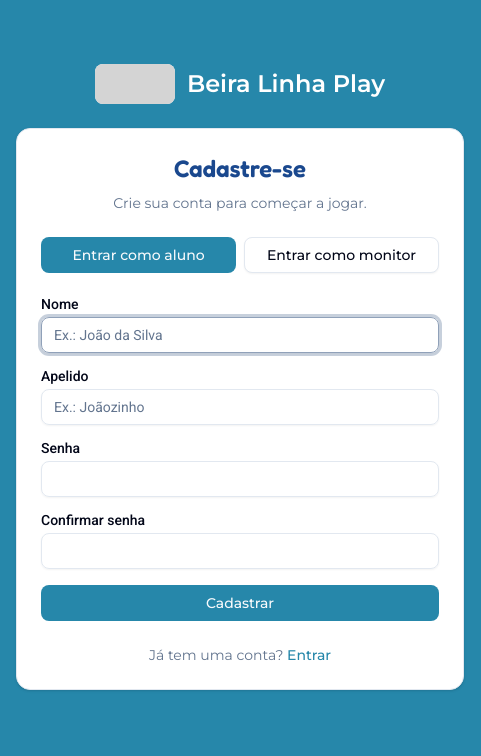
Test: RegisterPage › validates required student fields
Click the button "Cadastrar" at [240, 603], box [41,585,439,621]
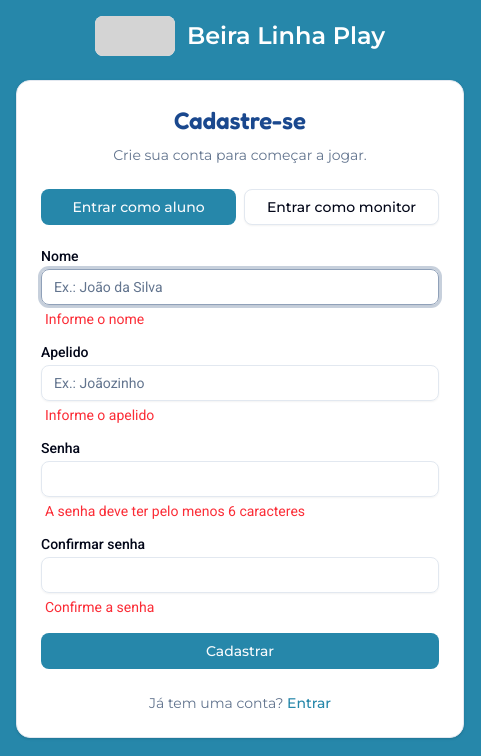
Result: the text "Informe o nome" is shown at [45,311,144,327]
Result: the text "Informe o apelido" is shown at [45,407,154,423]
Result: the text "A senha deve ter pelo menos 6 caracteres" is shown at [45,503,305,519]
